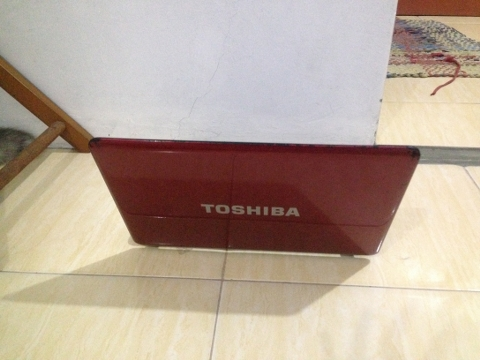pc: (89, 137, 421, 255)
